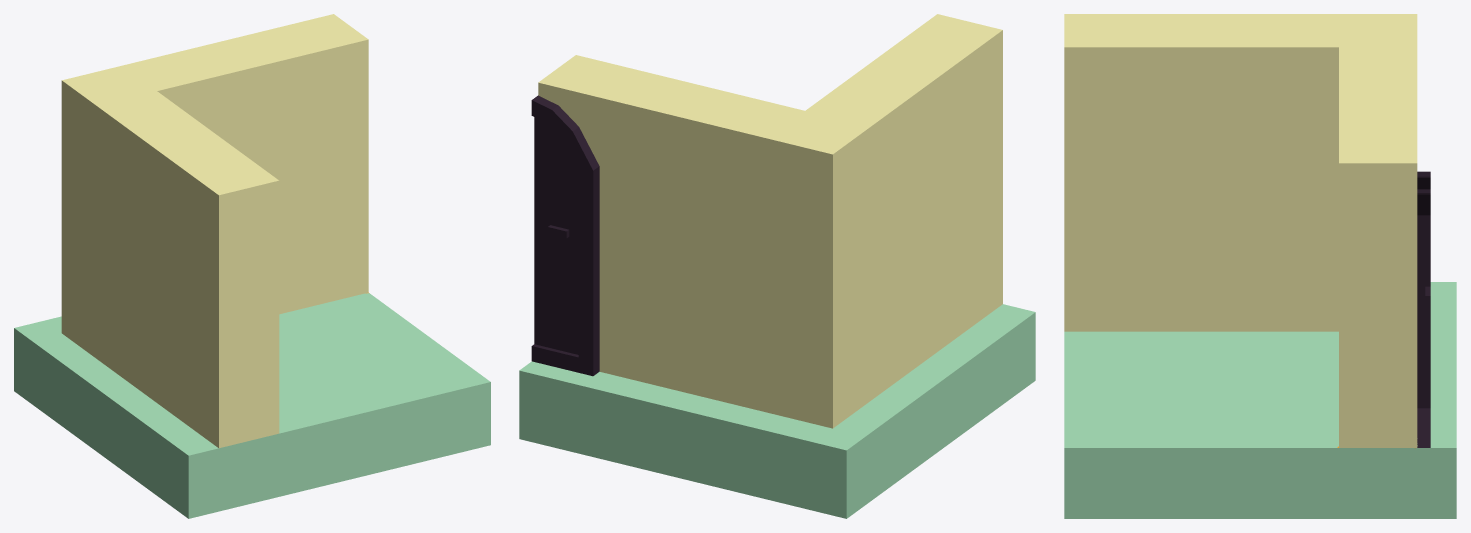
Rendered from DoorRight.fbx.
The picture shows the model from 3 angles, left to right: view 1: azimuth 30°, elevation 25°; view 2: azimuth 150°, elevation 25°; view 3: azimuth 270°, elevation 25°; orthographic projection. The views are drawn at different scales.
Parts seen in each view (by area): view 1: DoorRight; view 2: DoorRight; view 3: DoorRight.
Boxes of the visible parts, <box> form: DoorRight: <box>14,14,490,518</box>; DoorRight: <box>519,14,1035,518</box>; DoorRight: <box>1064,14,1456,518</box>.
Bounding box in the file's own units: 200 × 200 × 200.
